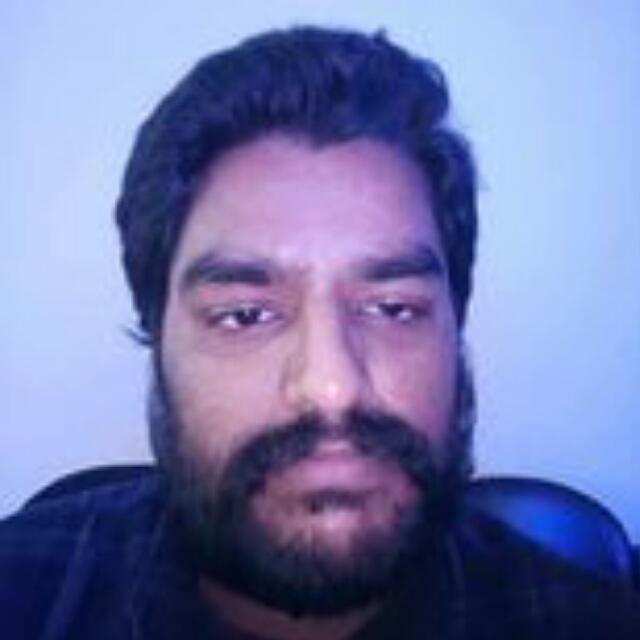Sad: (123, 166, 510, 591)
